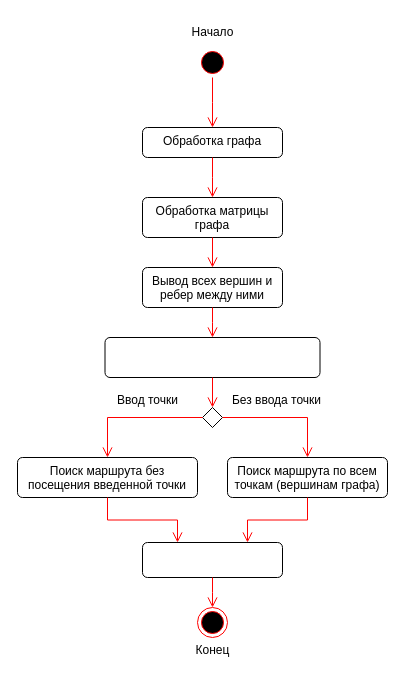
This 405x682 diagram has some shape labels left out. Here are the shapes that lost their labels. From the top down, the centre of each, then its label:
the point at 212,357: Получение запроса на ввод вершины графа без мусорных баков
the point at 212,560: Вывод построенного кратчайшего маршрута
